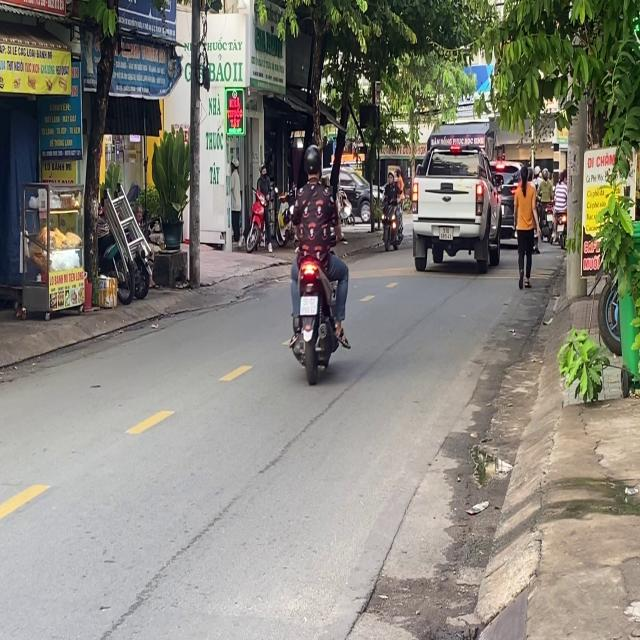helmet: (304, 144, 323, 181)
licenseplate: (285, 142, 350, 382)
nohelmet: (300, 296, 317, 316)
